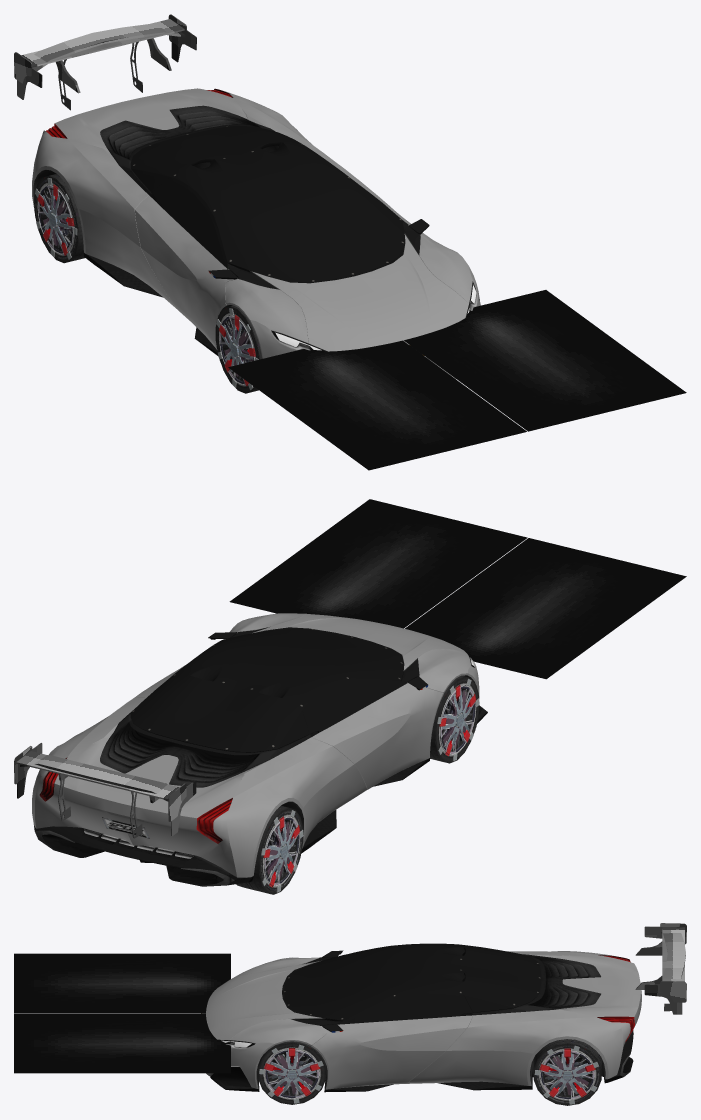
The model's file is Onyx_Show.fbx.
3 views of the same model, one above another, from view 1: azimuth 30°, elevation 25°; view 2: azimuth 150°, elevation 25°; view 3: azimuth 270°, elevation 25° (orthographic). The views are drawn at different scales.
Parts seen in each view (by area): view 1: Quad (×2), Car_Body, Glass_Windows, Car_Body_Misc, Spoiler_02, Spoiler_03, Wheel_Back_R, Wheel_R; view 2: Quad (×2), Car_Body, Glass_Windows, Car_Body_Misc, Spoiler_02, Wheel_Back_R (×3), Spoiler_03, Wheel_R (×2), Wheel_BR; view 3: Car_Body, Quad (×2), Glass_Windows, Car_Body_Misc, Wheel_Back_L (×5), Wheel_L (×5), Spoiler_02, Spoiler_03, Wheel_BL, Car_Interior, Wheel_FR.
Boxes of the visible parts, bbox=[...] form: Quad (×2): bbox=[228, 290, 686, 470]; Car_Body: bbox=[32, 88, 480, 378]; Glass_Windows: bbox=[130, 126, 404, 282]; Car_Body_Misc: bbox=[33, 88, 477, 356]; Spoiler_02: bbox=[17, 20, 196, 99]; Spoiler_03: bbox=[14, 14, 186, 110]; Wheel_Back_R: bbox=[34, 176, 78, 262]; Wheel_R: bbox=[215, 307, 259, 392]; Quad (×2): bbox=[229, 499, 686, 679]; Car_Body: bbox=[32, 613, 479, 877]; Glass_Windows: bbox=[130, 628, 404, 752]; Car_Body_Misc: bbox=[34, 627, 487, 886]; Spoiler_02: bbox=[17, 743, 196, 836]; Wheel_Back_R (×3): bbox=[236, 806, 303, 894]; Spoiler_03: bbox=[14, 746, 186, 838]; Wheel_R (×2): bbox=[435, 677, 479, 762]; Wheel_BR: bbox=[261, 807, 301, 891]; Car_Body: bbox=[202, 951, 641, 1089]; Quad (×2): bbox=[14, 953, 230, 1073]; Glass_Windows: bbox=[284, 943, 541, 1023]; Car_Body_Misc: bbox=[201, 950, 634, 1092]; Wheel_Back_L (×5): bbox=[533, 1039, 601, 1105]; Wheel_L (×5): bbox=[258, 1041, 325, 1104]; Spoiler_02: bbox=[635, 926, 685, 1014]; Spoiler_03: bbox=[660, 923, 686, 1011]; Wheel_BL: bbox=[536, 1039, 600, 1102]; Car_Interior: bbox=[282, 951, 513, 1024]; Wheel_FR: bbox=[266, 1051, 317, 1096].
Bounding box in the file's own units: 2.61 × 1.13 × 6.2.
